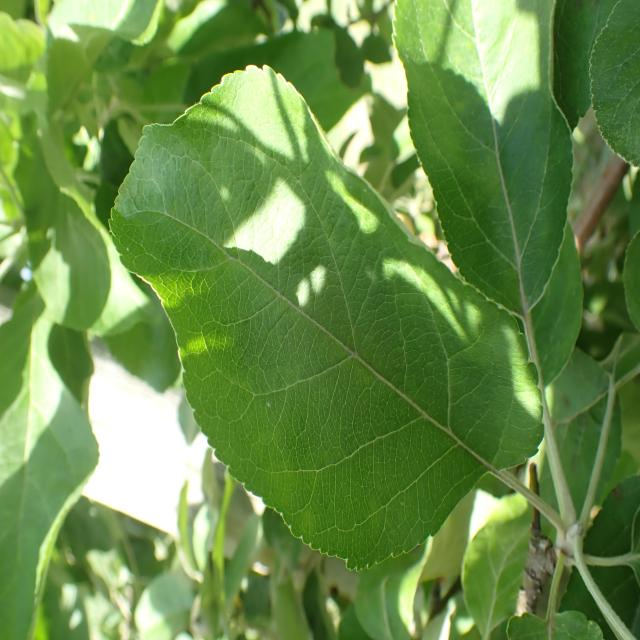healthy: (108, 62, 546, 575), (390, 0, 574, 317), (0, 235, 100, 640), (460, 488, 535, 639), (587, 0, 640, 166)
